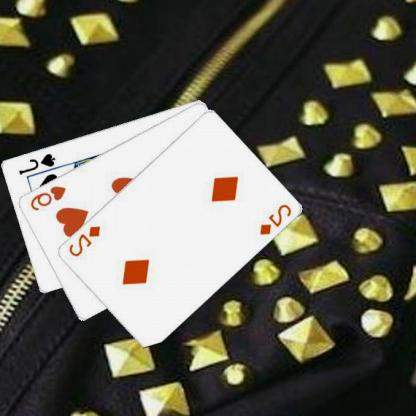2D: (258, 201, 294, 236), (68, 223, 103, 258)
6H: (29, 183, 69, 212)
JS: (18, 150, 58, 176)
